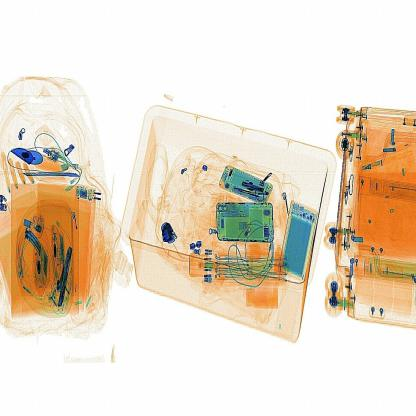scissors: (160, 217, 182, 246)
